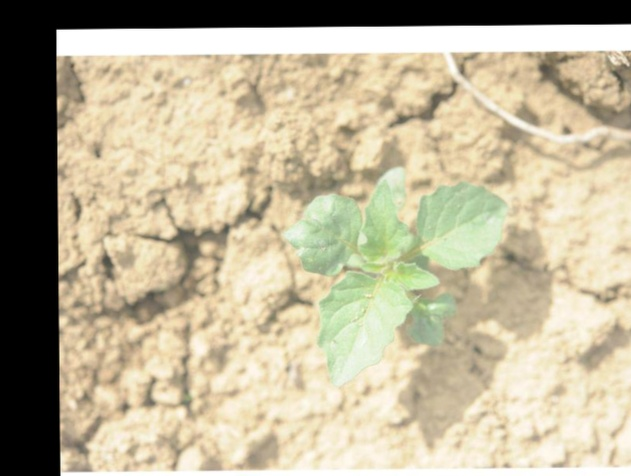nightshade: (286, 165, 508, 390)
